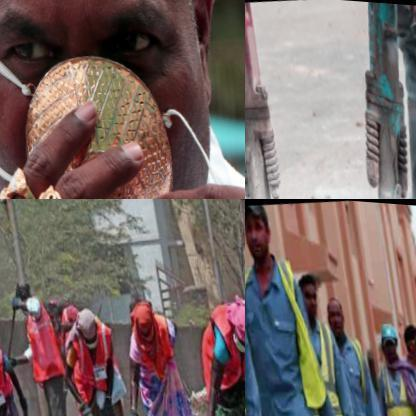vest: (245, 241, 327, 412), (196, 291, 244, 400), (295, 317, 346, 415), (68, 328, 124, 399), (331, 327, 374, 415), (128, 310, 185, 376), (22, 303, 69, 382), (377, 350, 415, 415), (0, 356, 18, 415)
